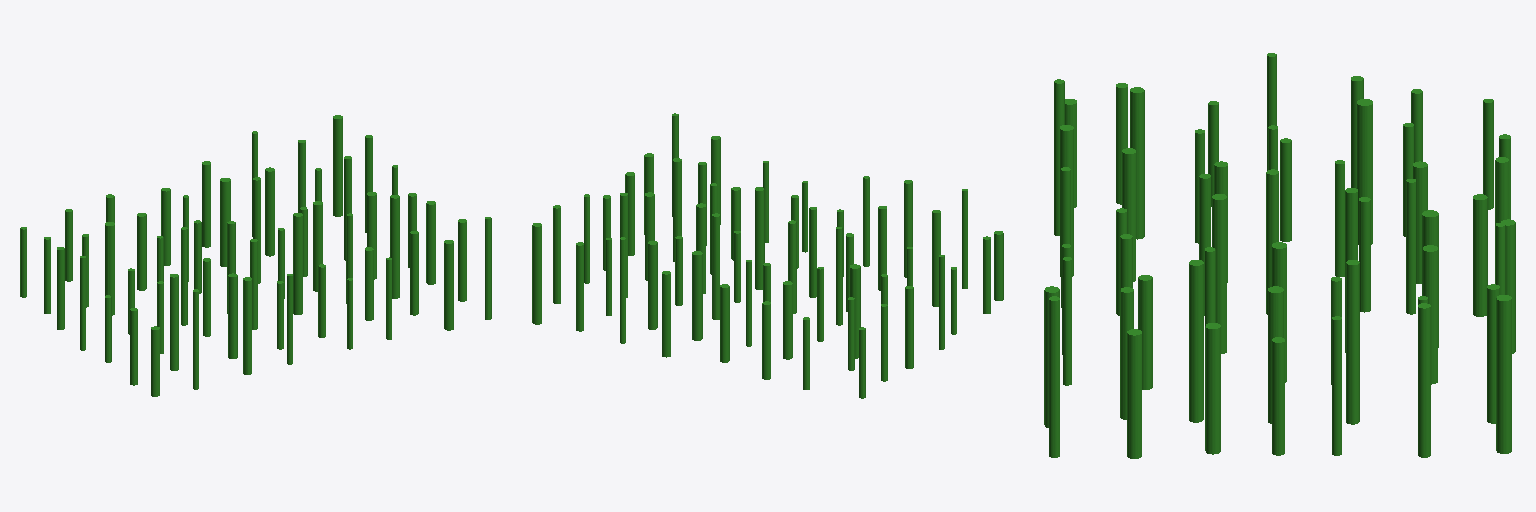
The robot description file, URDF, robot "weeds":
<?xml version="1.0"?>
<!-- LiDAR には映るが走行を妨げない物体 (雑草) の例。
     <collision_material><sensor_only value="true"/> を付けた <collision> は
     Unity の Collider.isTrigger になる。トリガはレイキャストには当たる一方、
     接触解決には入らないので、ロボットはそのまま突っ切り get_contact_events
     にも残らない。collision を持たないリンクでは LiDAR のレイが当たらず
     「何も無い」のと同じになるため、collision は普通に書いて sensor_only で
     トリガにするのが正しい書き方。

     株ごとにリンクを作らないこと: リンクは全て ArticulationBody になり、
     PhysX は 1 つの articulation につき 64 body までしか持てない。リンクは
     1 つにして <collision> を並べる (リンクあたりのコライダ数に上限は無い)。
     また、トリガだけのボディは何にも支えられないので world リンクに fixed で
     吊るす。そうしないと床をすり抜けて落ち続ける。

     56 株、x=1.5..4.0 / y=-0.9..0.9 に配置。草丈は 0.45-0.75 m で、
     diffbot の LiDAR (床上 0.27 m) のスキャン面より高い。 -->
<robot name="weeds">
  <material name="weed_green">
    <color rgba="0.25 0.6 0.2 1.0"/>
  </material>

  <collision_material name="weed">
    <sensor_only value="true"/>
  </collision_material>

  <link name="world"/>
  <link name="weeds_link">
    <visual><origin xyz="1.517 -0.876 0.240" rpy="0 0 0"/><geometry><cylinder radius="0.031" length="0.481"/></geometry><material name="weed_green"/></visual>
    <collision><origin xyz="1.517 -0.876 0.240" rpy="0 0 0"/><geometry><cylinder radius="0.031" length="0.481"/></geometry><collision_material name="weed"/></collision>
    <visual><origin xyz="1.48 -0.658 0.269" rpy="0 0 0"/><geometry><cylinder radius="0.026" length="0.538"/></geometry><material name="weed_green"/></visual>
    <collision><origin xyz="1.48 -0.658 0.269" rpy="0 0 0"/><geometry><cylinder radius="0.026" length="0.538"/></geometry><collision_material name="weed"/></collision>
    <visual><origin xyz="1.507 -0.274 0.234" rpy="0 0 0"/><geometry><cylinder radius="0.022" length="0.469"/></geometry><material name="weed_green"/></visual>
    <collision><origin xyz="1.507 -0.274 0.234" rpy="0 0 0"/><geometry><cylinder radius="0.022" length="0.469"/></geometry><collision_material name="weed"/></collision>
    <visual><origin xyz="1.458 -0.03 0.335" rpy="0 0 0"/><geometry><cylinder radius="0.02" length="0.669"/></geometry><material name="weed_green"/></visual>
    <collision><origin xyz="1.458 -0.03 0.335" rpy="0 0 0"/><geometry><cylinder radius="0.02" length="0.669"/></geometry><collision_material name="weed"/></collision>
    <visual><origin xyz="1.495 0.327 0.288" rpy="0 0 0"/><geometry><cylinder radius="0.027" length="0.577"/></geometry><material name="weed_green"/></visual>
    <collision><origin xyz="1.495 0.327 0.288" rpy="0 0 0"/><geometry><cylinder radius="0.027" length="0.577"/></geometry><collision_material name="weed"/></collision>
    <visual><origin xyz="1.541 0.578 0.270" rpy="0 0 0"/><geometry><cylinder radius="0.024" length="0.539"/></geometry><material name="weed_green"/></visual>
    <collision><origin xyz="1.541 0.578 0.270" rpy="0 0 0"/><geometry><cylinder radius="0.024" length="0.539"/></geometry><collision_material name="weed"/></collision>
    <visual><origin xyz="1.534 0.877 0.246" rpy="0 0 0"/><geometry><cylinder radius="0.022" length="0.493"/></geometry><material name="weed_green"/></visual>
    <collision><origin xyz="1.534 0.877 0.246" rpy="0 0 0"/><geometry><cylinder radius="0.022" length="0.493"/></geometry><collision_material name="weed"/></collision>
    <visual><origin xyz="1.798 -0.92 0.352" rpy="0 0 0"/><geometry><cylinder radius="0.022" length="0.705"/></geometry><material name="weed_green"/></visual>
    <collision><origin xyz="1.798 -0.92 0.352" rpy="0 0 0"/><geometry><cylinder radius="0.022" length="0.705"/></geometry><collision_material name="weed"/></collision>
    <visual><origin xyz="1.822 -0.593 0.338" rpy="0 0 0"/><geometry><cylinder radius="0.03" length="0.676"/></geometry><material name="weed_green"/></visual>
    <collision><origin xyz="1.822 -0.593 0.338" rpy="0 0 0"/><geometry><cylinder radius="0.03" length="0.676"/></geometry><collision_material name="weed"/></collision>
    <visual><origin xyz="1.871 -0.331 0.254" rpy="0 0 0"/><geometry><cylinder radius="0.022" length="0.508"/></geometry><material name="weed_green"/></visual>
    <collision><origin xyz="1.871 -0.331 0.254" rpy="0 0 0"/><geometry><cylinder radius="0.022" length="0.508"/></geometry><collision_material name="weed"/></collision>
    <visual><origin xyz="1.856 0.029 0.229" rpy="0 0 0"/><geometry><cylinder radius="0.024" length="0.458"/></geometry><material name="weed_green"/></visual>
    <collision><origin xyz="1.856 0.029 0.229" rpy="0 0 0"/><geometry><cylinder radius="0.024" length="0.458"/></geometry><collision_material name="weed"/></collision>
    <visual><origin xyz="1.886 0.36 0.325" rpy="0 0 0"/><geometry><cylinder radius="0.035" length="0.649"/></geometry><material name="weed_green"/></visual>
    <collision><origin xyz="1.886 0.36 0.325" rpy="0 0 0"/><geometry><cylinder radius="0.035" length="0.649"/></geometry><collision_material name="weed"/></collision>
    <visual><origin xyz="1.811 0.543 0.255" rpy="0 0 0"/><geometry><cylinder radius="0.023" length="0.51"/></geometry><material name="weed_green"/></visual>
    <collision><origin xyz="1.811 0.543 0.255" rpy="0 0 0"/><geometry><cylinder radius="0.023" length="0.51"/></geometry><collision_material name="weed"/></collision>
    <visual><origin xyz="1.915 0.946 0.252" rpy="0 0 0"/><geometry><cylinder radius="0.025" length="0.503"/></geometry><material name="weed_green"/></visual>
    <collision><origin xyz="1.915 0.946 0.252" rpy="0 0 0"/><geometry><cylinder radius="0.025" length="0.503"/></geometry><collision_material name="weed"/></collision>
    <visual><origin xyz="2.208 -0.889 0.341" rpy="0 0 0"/><geometry><cylinder radius="0.03" length="0.681"/></geometry><material name="weed_green"/></visual>
    <collision><origin xyz="2.208 -0.889 0.341" rpy="0 0 0"/><geometry><cylinder radius="0.03" length="0.681"/></geometry><collision_material name="weed"/></collision>
    <visual><origin xyz="2.247 -0.627 0.296" rpy="0 0 0"/><geometry><cylinder radius="0.03" length="0.593"/></geometry><material name="weed_green"/></visual>
    <collision><origin xyz="2.247 -0.627 0.296" rpy="0 0 0"/><geometry><cylinder radius="0.03" length="0.593"/></geometry><collision_material name="weed"/></collision>
    <visual><origin xyz="2.273 -0.242 0.272" rpy="0 0 0"/><geometry><cylinder radius="0.029" length="0.543"/></geometry><material name="weed_green"/></visual>
    <collision><origin xyz="2.273 -0.242 0.272" rpy="0 0 0"/><geometry><cylinder radius="0.029" length="0.543"/></geometry><collision_material name="weed"/></collision>
    <visual><origin xyz="2.227 -0.024 0.346" rpy="0 0 0"/><geometry><cylinder radius="0.021" length="0.693"/></geometry><material name="weed_green"/></visual>
    <collision><origin xyz="2.227 -0.024 0.346" rpy="0 0 0"/><geometry><cylinder radius="0.021" length="0.693"/></geometry><collision_material name="weed"/></collision>
    <visual><origin xyz="2.206 0.256 0.261" rpy="0 0 0"/><geometry><cylinder radius="0.022" length="0.522"/></geometry><material name="weed_green"/></visual>
    <collision><origin xyz="2.206 0.256 0.261" rpy="0 0 0"/><geometry><cylinder radius="0.022" length="0.522"/></geometry><collision_material name="weed"/></collision>
    <visual><origin xyz="2.26 0.591 0.268" rpy="0 0 0"/><geometry><cylinder radius="0.032" length="0.536"/></geometry><material name="weed_green"/></visual>
    <collision><origin xyz="2.26 0.591 0.268" rpy="0 0 0"/><geometry><cylinder radius="0.032" length="0.536"/></geometry><collision_material name="weed"/></collision>
    <visual><origin xyz="2.221 0.935 0.270" rpy="0 0 0"/><geometry><cylinder radius="0.029" length="0.54"/></geometry><material name="weed_green"/></visual>
    <collision><origin xyz="2.221 0.935 0.270" rpy="0 0 0"/><geometry><cylinder radius="0.029" length="0.54"/></geometry><collision_material name="weed"/></collision>
    <visual><origin xyz="2.524 -0.893 0.319" rpy="0 0 0"/><geometry><cylinder radius="0.021" length="0.638"/></geometry><material name="weed_green"/></visual>
    <collision><origin xyz="2.524 -0.893 0.319" rpy="0 0 0"/><geometry><cylinder radius="0.021" length="0.638"/></geometry><collision_material name="weed"/></collision>
    <visual><origin xyz="2.587 -0.658 0.238" rpy="0 0 0"/><geometry><cylinder radius="0.023" length="0.476"/></geometry><material name="weed_green"/></visual>
    <collision><origin xyz="2.587 -0.658 0.238" rpy="0 0 0"/><geometry><cylinder radius="0.023" length="0.476"/></geometry><collision_material name="weed"/></collision>
    <visual><origin xyz="2.588 -0.309 0.318" rpy="0 0 0"/><geometry><cylinder radius="0.025" length="0.635"/></geometry><material name="weed_green"/></visual>
    <collision><origin xyz="2.588 -0.309 0.318" rpy="0 0 0"/><geometry><cylinder radius="0.025" length="0.635"/></geometry><collision_material name="weed"/></collision>
    <visual><origin xyz="2.582 -0.026 0.326" rpy="0 0 0"/><geometry><cylinder radius="0.027" length="0.652"/></geometry><material name="weed_green"/></visual>
    <collision><origin xyz="2.582 -0.026 0.326" rpy="0 0 0"/><geometry><cylinder radius="0.027" length="0.652"/></geometry><collision_material name="weed"/></collision>
    <visual><origin xyz="2.55 0.359 0.255" rpy="0 0 0"/><geometry><cylinder radius="0.025" length="0.51"/></geometry><material name="weed_green"/></visual>
    <collision><origin xyz="2.55 0.359 0.255" rpy="0 0 0"/><geometry><cylinder radius="0.025" length="0.51"/></geometry><collision_material name="weed"/></collision>
    <visual><origin xyz="2.574 0.554 0.304" rpy="0 0 0"/><geometry><cylinder radius="0.021" length="0.609"/></geometry><material name="weed_green"/></visual>
    <collision><origin xyz="2.574 0.554 0.304" rpy="0 0 0"/><geometry><cylinder radius="0.021" length="0.609"/></geometry><collision_material name="weed"/></collision>
    <visual><origin xyz="2.59 0.842 0.270" rpy="0 0 0"/><geometry><cylinder radius="0.031" length="0.539"/></geometry><material name="weed_green"/></visual>
    <collision><origin xyz="2.59 0.842 0.270" rpy="0 0 0"/><geometry><cylinder radius="0.031" length="0.539"/></geometry><collision_material name="weed"/></collision>
    <visual><origin xyz="2.983 -0.889 0.249" rpy="0 0 0"/><geometry><cylinder radius="0.02" length="0.498"/></geometry><material name="weed_green"/></visual>
    <collision><origin xyz="2.983 -0.889 0.249" rpy="0 0 0"/><geometry><cylinder radius="0.02" length="0.498"/></geometry><collision_material name="weed"/></collision>
    <visual><origin xyz="2.916 -0.639 0.255" rpy="0 0 0"/><geometry><cylinder radius="0.026" length="0.509"/></geometry><material name="weed_green"/></visual>
    <collision><origin xyz="2.916 -0.639 0.255" rpy="0 0 0"/><geometry><cylinder radius="0.026" length="0.509"/></geometry><collision_material name="weed"/></collision>
    <visual><origin xyz="2.958 -0.249 0.356" rpy="0 0 0"/><geometry><cylinder radius="0.032" length="0.713"/></geometry><material name="weed_green"/></visual>
    <collision><origin xyz="2.958 -0.249 0.356" rpy="0 0 0"/><geometry><cylinder radius="0.032" length="0.713"/></geometry><collision_material name="weed"/></collision>
    <visual><origin xyz="2.977 0.007 0.250" rpy="0 0 0"/><geometry><cylinder radius="0.023" length="0.5"/></geometry><material name="weed_green"/></visual>
    <collision><origin xyz="2.977 0.007 0.250" rpy="0 0 0"/><geometry><cylinder radius="0.023" length="0.5"/></geometry><collision_material name="weed"/></collision>
    <visual><origin xyz="2.966 0.304 0.373" rpy="0 0 0"/><geometry><cylinder radius="0.027" length="0.746"/></geometry><material name="weed_green"/></visual>
    <collision><origin xyz="2.966 0.304 0.373" rpy="0 0 0"/><geometry><cylinder radius="0.027" length="0.746"/></geometry><collision_material name="weed"/></collision>
    <visual><origin xyz="2.918 0.634 0.308" rpy="0 0 0"/><geometry><cylinder radius="0.035" length="0.616"/></geometry><material name="weed_green"/></visual>
    <collision><origin xyz="2.918 0.634 0.308" rpy="0 0 0"/><geometry><cylinder radius="0.035" length="0.616"/></geometry><collision_material name="weed"/></collision>
    <visual><origin xyz="2.963 0.959 0.298" rpy="0 0 0"/><geometry><cylinder radius="0.031" length="0.597"/></geometry><material name="weed_green"/></visual>
    <collision><origin xyz="2.963 0.959 0.298" rpy="0 0 0"/><geometry><cylinder radius="0.031" length="0.597"/></geometry><collision_material name="weed"/></collision>
    <visual><origin xyz="3.279 -0.886 0.288" rpy="0 0 0"/><geometry><cylinder radius="0.02" length="0.577"/></geometry><material name="weed_green"/></visual>
    <collision><origin xyz="3.279 -0.886 0.288" rpy="0 0 0"/><geometry><cylinder radius="0.02" length="0.577"/></geometry><collision_material name="weed"/></collision>
    <visual><origin xyz="3.315 -0.559 0.253" rpy="0 0 0"/><geometry><cylinder radius="0.03" length="0.506"/></geometry><material name="weed_green"/></visual>
    <collision><origin xyz="3.315 -0.559 0.253" rpy="0 0 0"/><geometry><cylinder radius="0.03" length="0.506"/></geometry><collision_material name="weed"/></collision>
    <visual><origin xyz="3.326 -0.289 0.321" rpy="0 0 0"/><geometry><cylinder radius="0.023" length="0.641"/></geometry><material name="weed_green"/></visual>
    <collision><origin xyz="3.326 -0.289 0.321" rpy="0 0 0"/><geometry><cylinder radius="0.023" length="0.641"/></geometry><collision_material name="weed"/></collision>
    <visual><origin xyz="3.253 0.002 0.313" rpy="0 0 0"/><geometry><cylinder radius="0.033" length="0.626"/></geometry><material name="weed_green"/></visual>
    <collision><origin xyz="3.253 0.002 0.313" rpy="0 0 0"/><geometry><cylinder radius="0.033" length="0.626"/></geometry><collision_material name="weed"/></collision>
    <visual><origin xyz="3.283 0.24 0.242" rpy="0 0 0"/><geometry><cylinder radius="0.024" length="0.484"/></geometry><material name="weed_green"/></visual>
    <collision><origin xyz="3.283 0.24 0.242" rpy="0 0 0"/><geometry><cylinder radius="0.024" length="0.484"/></geometry><collision_material name="weed"/></collision>
    <visual><origin xyz="3.255 0.634 0.306" rpy="0 0 0"/><geometry><cylinder radius="0.033" length="0.613"/></geometry><material name="weed_green"/></visual>
    <collision><origin xyz="3.255 0.634 0.306" rpy="0 0 0"/><geometry><cylinder radius="0.033" length="0.613"/></geometry><collision_material name="weed"/></collision>
    <visual><origin xyz="3.311 0.927 0.374" rpy="0 0 0"/><geometry><cylinder radius="0.021" length="0.749"/></geometry><material name="weed_green"/></visual>
    <collision><origin xyz="3.311 0.927 0.374" rpy="0 0 0"/><geometry><cylinder radius="0.021" length="0.749"/></geometry><collision_material name="weed"/></collision>
    <visual><origin xyz="3.694 -0.95 0.314" rpy="0 0 0"/><geometry><cylinder radius="0.032" length="0.627"/></geometry><material name="weed_green"/></visual>
    <collision><origin xyz="3.694 -0.95 0.314" rpy="0 0 0"/><geometry><cylinder radius="0.032" length="0.627"/></geometry><collision_material name="weed"/></collision>
    <visual><origin xyz="3.613 -0.636 0.294" rpy="0 0 0"/><geometry><cylinder radius="0.028" length="0.588"/></geometry><material name="weed_green"/></visual>
    <collision><origin xyz="3.613 -0.636 0.294" rpy="0 0 0"/><geometry><cylinder radius="0.028" length="0.588"/></geometry><collision_material name="weed"/></collision>
    <visual><origin xyz="3.635 -0.346 0.362" rpy="0 0 0"/><geometry><cylinder radius="0.031" length="0.725"/></geometry><material name="weed_green"/></visual>
    <collision><origin xyz="3.635 -0.346 0.362" rpy="0 0 0"/><geometry><cylinder radius="0.031" length="0.725"/></geometry><collision_material name="weed"/></collision>
    <visual><origin xyz="3.65 -0.013 0.303" rpy="0 0 0"/><geometry><cylinder radius="0.034" length="0.607"/></geometry><material name="weed_green"/></visual>
    <collision><origin xyz="3.65 -0.013 0.303" rpy="0 0 0"/><geometry><cylinder radius="0.034" length="0.607"/></geometry><collision_material name="weed"/></collision>
    <visual><origin xyz="3.658 0.309 0.368" rpy="0 0 0"/><geometry><cylinder radius="0.028" length="0.736"/></geometry><material name="weed_green"/></visual>
    <collision><origin xyz="3.658 0.309 0.368" rpy="0 0 0"/><geometry><cylinder radius="0.028" length="0.736"/></geometry><collision_material name="weed"/></collision>
    <visual><origin xyz="3.602 0.603 0.273" rpy="0 0 0"/><geometry><cylinder radius="0.021" length="0.545"/></geometry><material name="weed_green"/></visual>
    <collision><origin xyz="3.602 0.603 0.273" rpy="0 0 0"/><geometry><cylinder radius="0.021" length="0.545"/></geometry><collision_material name="weed"/></collision>
    <visual><origin xyz="3.649 0.897 0.309" rpy="0 0 0"/><geometry><cylinder radius="0.027" length="0.619"/></geometry><material name="weed_green"/></visual>
    <collision><origin xyz="3.649 0.897 0.309" rpy="0 0 0"/><geometry><cylinder radius="0.027" length="0.619"/></geometry><collision_material name="weed"/></collision>
    <visual><origin xyz="3.994 -0.94 0.363" rpy="0 0 0"/><geometry><cylinder radius="0.023" length="0.726"/></geometry><material name="weed_green"/></visual>
    <collision><origin xyz="3.994 -0.94 0.363" rpy="0 0 0"/><geometry><cylinder radius="0.023" length="0.726"/></geometry><collision_material name="weed"/></collision>
    <visual><origin xyz="3.995 -0.604 0.285" rpy="0 0 0"/><geometry><cylinder radius="0.032" length="0.571"/></geometry><material name="weed_green"/></visual>
    <collision><origin xyz="3.995 -0.604 0.285" rpy="0 0 0"/><geometry><cylinder radius="0.032" length="0.571"/></geometry><collision_material name="weed"/></collision>
    <visual><origin xyz="3.949 -0.276 0.289" rpy="0 0 0"/><geometry><cylinder radius="0.032" length="0.579"/></geometry><material name="weed_green"/></visual>
    <collision><origin xyz="3.949 -0.276 0.289" rpy="0 0 0"/><geometry><cylinder radius="0.032" length="0.579"/></geometry><collision_material name="weed"/></collision>
    <visual><origin xyz="3.966 -0.002 0.261" rpy="0 0 0"/><geometry><cylinder radius="0.029" length="0.521"/></geometry><material name="weed_green"/></visual>
    <collision><origin xyz="3.966 -0.002 0.261" rpy="0 0 0"/><geometry><cylinder radius="0.029" length="0.521"/></geometry><collision_material name="weed"/></collision>
    <visual><origin xyz="3.975 0.243 0.313" rpy="0 0 0"/><geometry><cylinder radius="0.021" length="0.626"/></geometry><material name="weed_green"/></visual>
    <collision><origin xyz="3.975 0.243 0.313" rpy="0 0 0"/><geometry><cylinder radius="0.021" length="0.626"/></geometry><collision_material name="weed"/></collision>
    <visual><origin xyz="3.989 0.608 0.345" rpy="0 0 0"/><geometry><cylinder radius="0.027" length="0.69"/></geometry><material name="weed_green"/></visual>
    <collision><origin xyz="3.989 0.608 0.345" rpy="0 0 0"/><geometry><cylinder radius="0.027" length="0.69"/></geometry><collision_material name="weed"/></collision>
    <visual><origin xyz="3.946 0.942 0.353" rpy="0 0 0"/><geometry><cylinder radius="0.032" length="0.706"/></geometry><material name="weed_green"/></visual>
    <collision><origin xyz="3.946 0.942 0.353" rpy="0 0 0"/><geometry><cylinder radius="0.032" length="0.706"/></geometry><collision_material name="weed"/></collision>
  </link>
  <joint name="weeds_fix" type="fixed">
    <parent link="world"/>
    <child link="weeds_link"/>
  </joint>
</robot>

--- What the picture shows (computed from the rendered views, not written in the file) ---
Views: 3 orthographic renders of the robot side by side, from view 1: azimuth 30°, elevation 25°; view 2: azimuth 150°, elevation 25°; view 3: azimuth 270°, elevation 25°.
Robot: weeds — 2 links, 1 joints (1 fixed); root link world; default pose: every joint at zero.
Links seen in each view (by area): view 1: weeds_link; view 2: weeds_link; view 3: weeds_link.
Boxes of the visible links, box(x1,y1,x2,y2) form: weeds_link: box(20, 115, 491, 396); weeds_link: box(532, 113, 1003, 398); weeds_link: box(1044, 53, 1515, 458).
Size in the robot's own frame: 2.59 by 1.97 by 0.749 metres.
Geometry: primitives only (box / cylinder / sphere), no mesh files.
